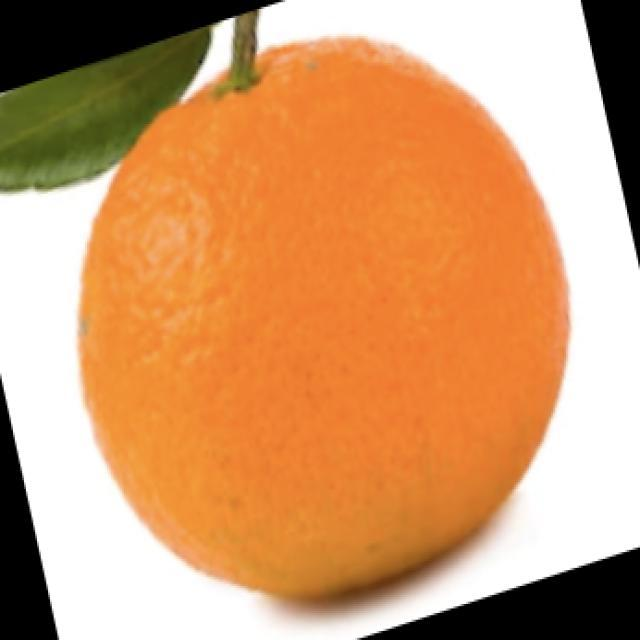Orange: (76, 33, 571, 602)
